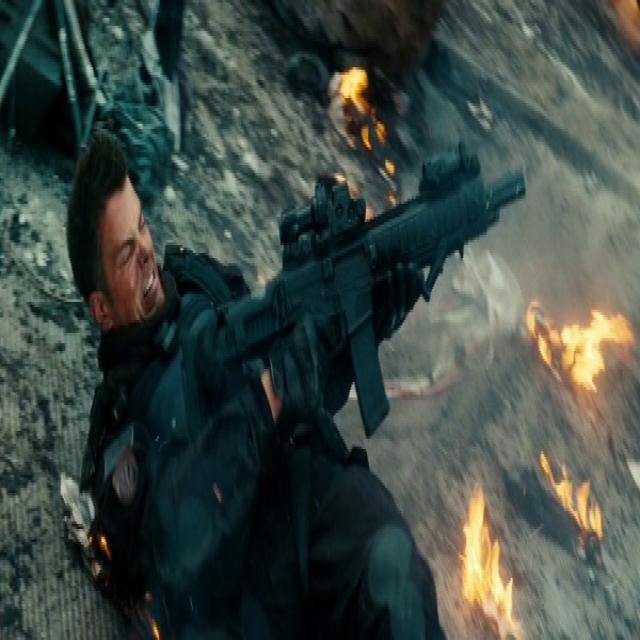rifle: (198, 143, 534, 440)
